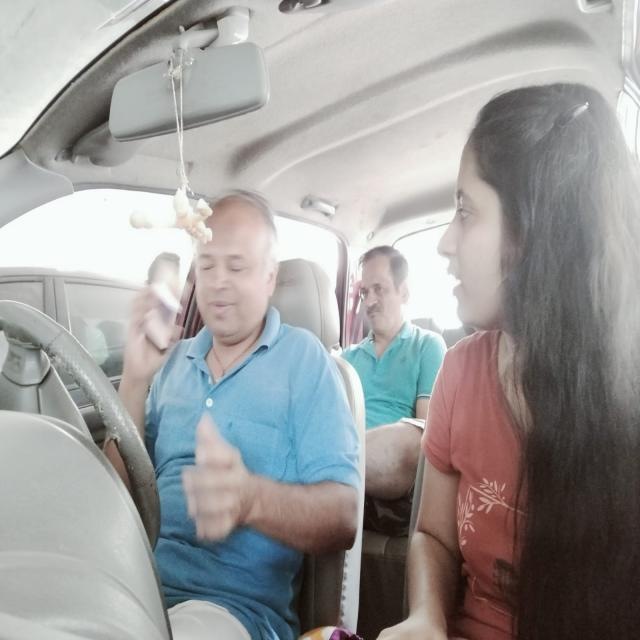mobile: (142, 231, 191, 369)
person: (433, 65, 635, 365), (180, 181, 295, 353), (348, 236, 422, 332)
